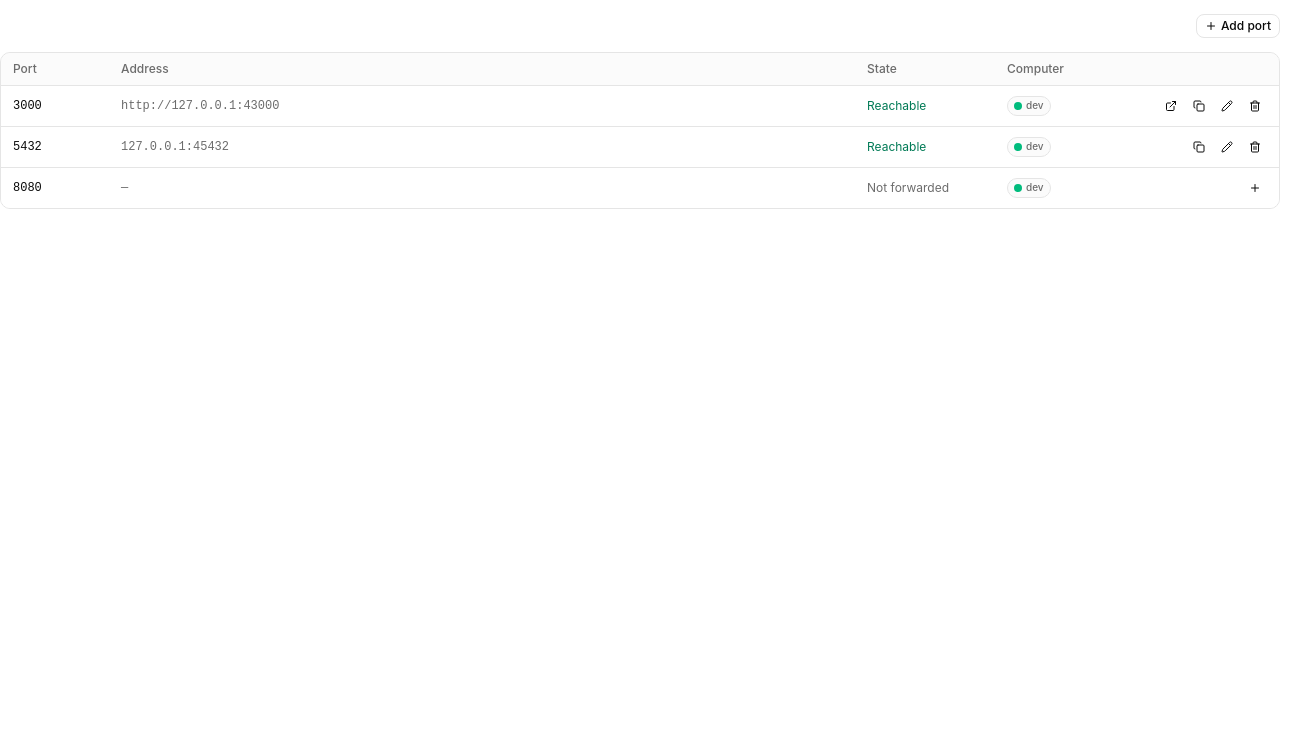
Test: forwards a detected port immediately without a form
Click the button named "Forward port 8080 to this device".
click(1255, 188)  # box 1243,176 -> 1267,200
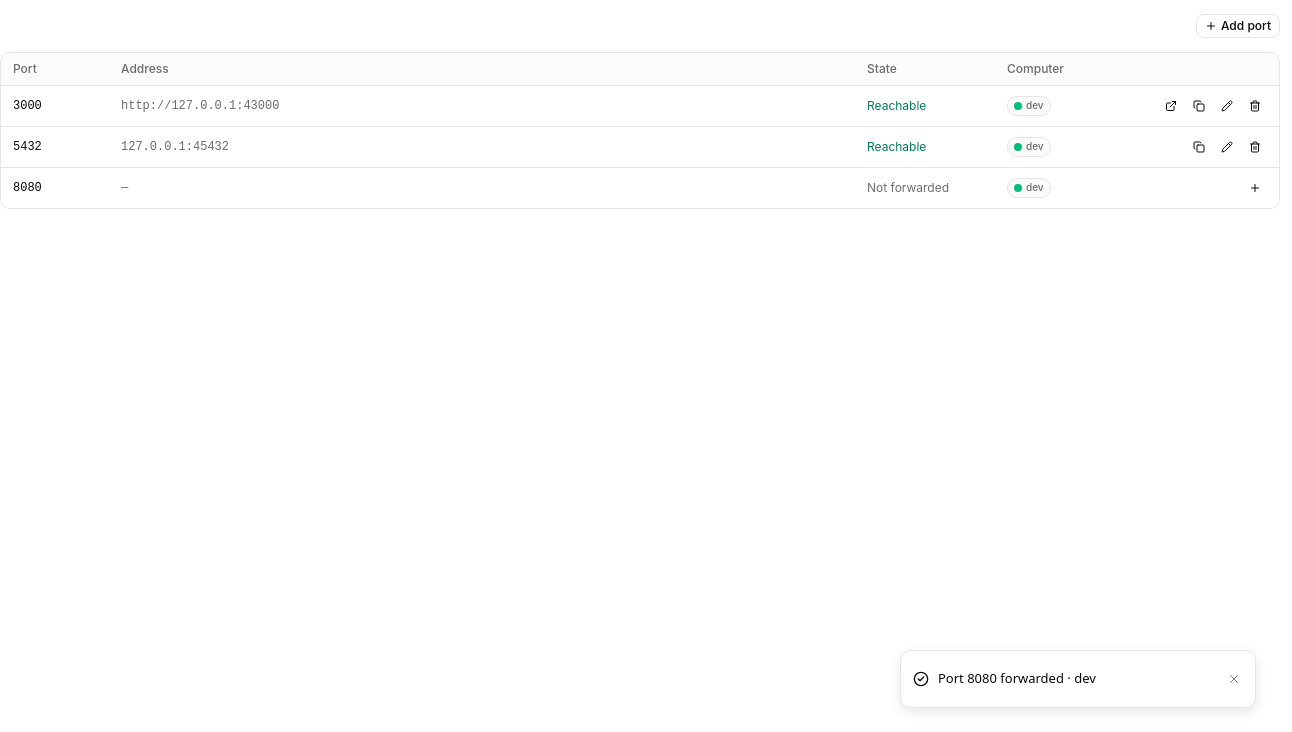
Now the text "Port 8080 forwarded · dev" is shown, box 938,669 -> 1096,687
